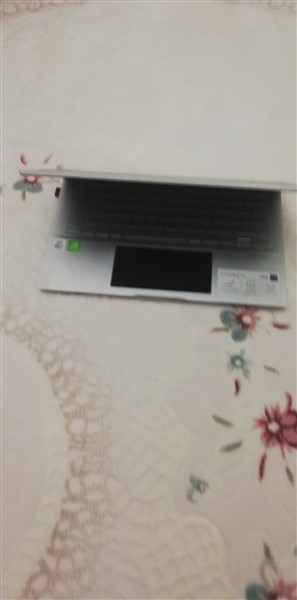laptop: (19, 163, 297, 316)
